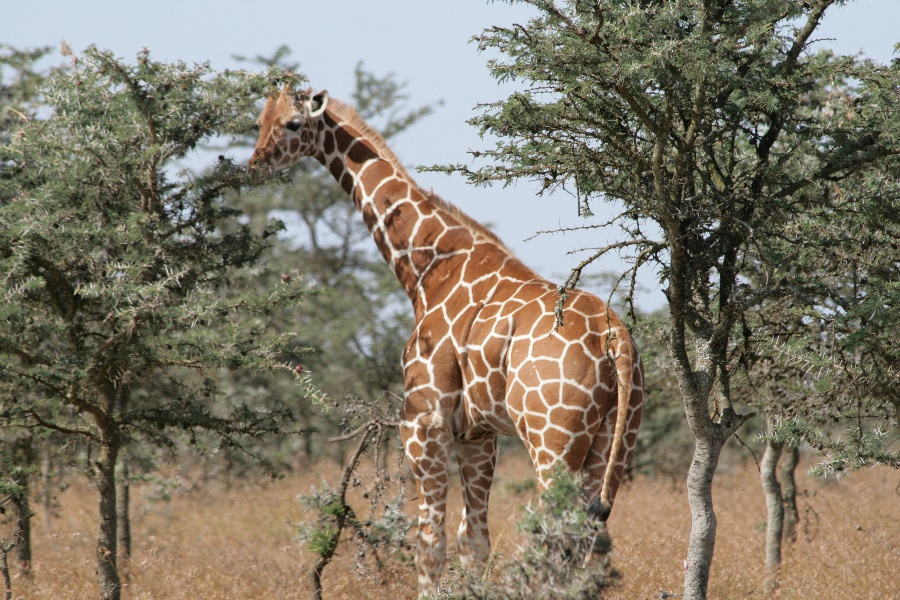giraffe: (237, 65, 660, 599)
